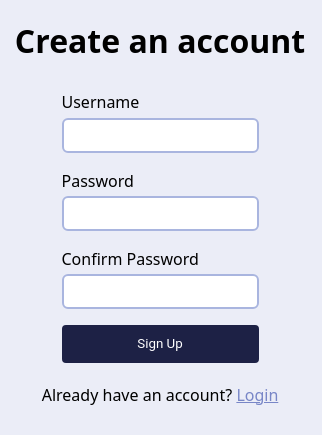
Test case: CreateUserView › shows error when username is already taken (409)
Step 1. Type "whitney" into the field labelled "Username" → (160, 135), box [62,118,258,153]
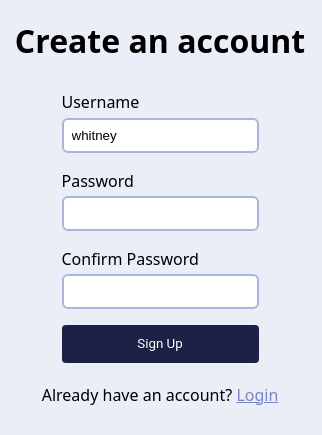
Step 2. Type "password123" into the password field labelled "Password" → (160, 213), box [62,196,258,231]
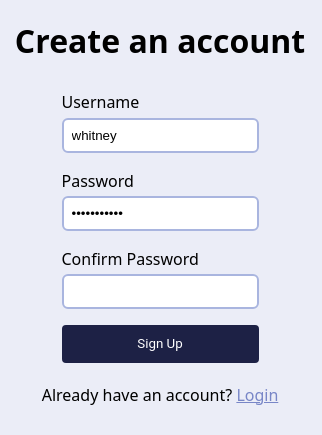
Step 3. Type "password123" into the password field labelled "Confirm Password" → (160, 292), box [62,274,258,309]
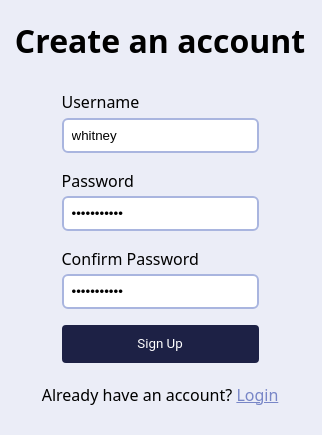
Step 4. Click the button "Sign Up" → (160, 344), box [62,325,258,363]
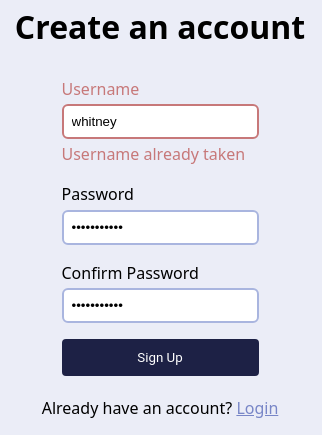
Expected: the text "Username already taken" is shown, [62,143,245,165]
